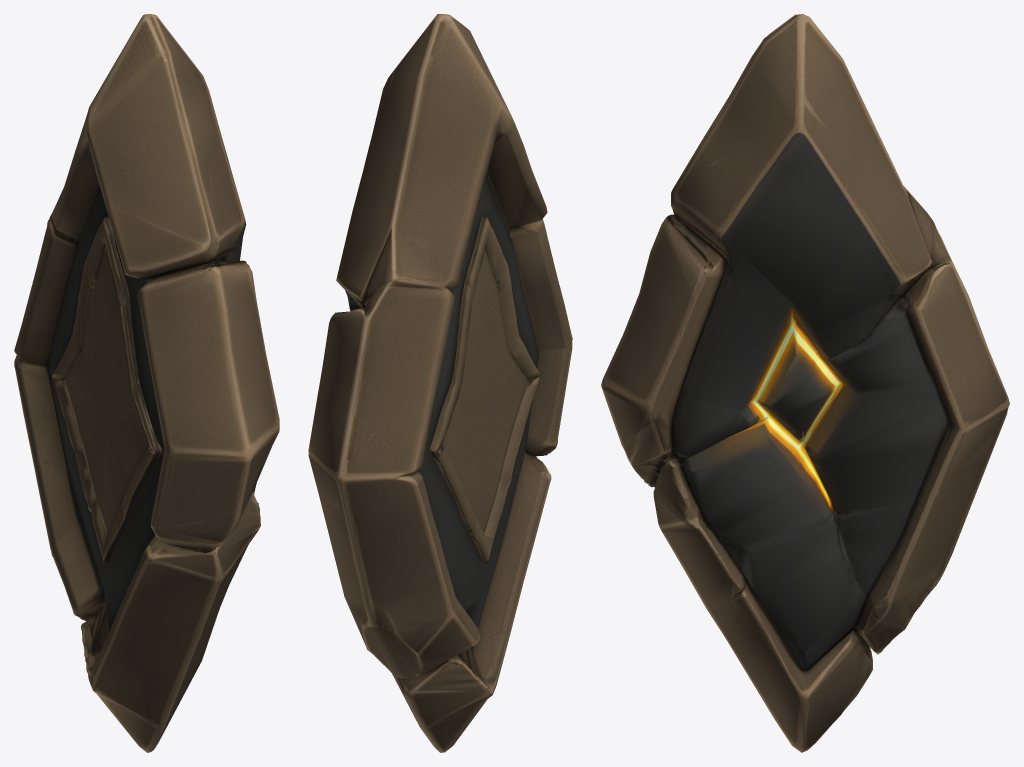
File: rune_fragment.glb
The picture shows the model from 3 angles, left to right: view 1: azimuth 30°, elevation 25°; view 2: azimuth 150°, elevation 25°; view 3: azimuth 270°, elevation 25°; orthographic projection.
Parts seen in each view (by area): view 1: tripo_node_fc00ca88-a9a5-45c9-8fcc-a8ee30f0994c; view 2: tripo_node_fc00ca88-a9a5-45c9-8fcc-a8ee30f0994c; view 3: tripo_node_fc00ca88-a9a5-45c9-8fcc-a8ee30f0994c.
Part boxes in pixels (<box>): tripo_node_fc00ca88-a9a5-45c9-8fcc-a8ee30f0994c: <box>14,14,279,752</box>; tripo_node_fc00ca88-a9a5-45c9-8fcc-a8ee30f0994c: <box>308,14,572,752</box>; tripo_node_fc00ca88-a9a5-45c9-8fcc-a8ee30f0994c: <box>601,14,1009,752</box>.
Size of the model in its own units: 0.1777 by 0.998 by 0.502.
Materials: 1 (1 with a texture image).
